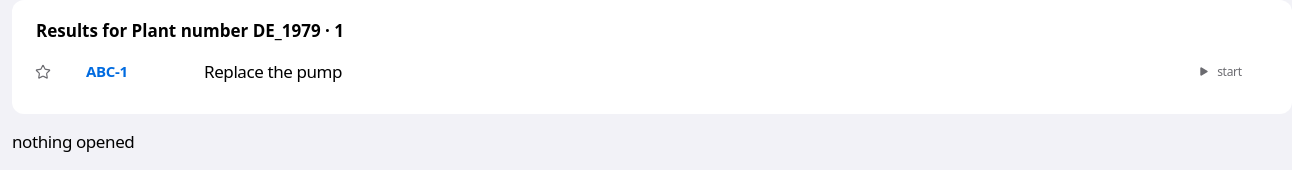
Scenario: the results themselves › open the issue when one is clicked
Click the button "Replace the pump" at (273, 71), box [200,50,962,94]
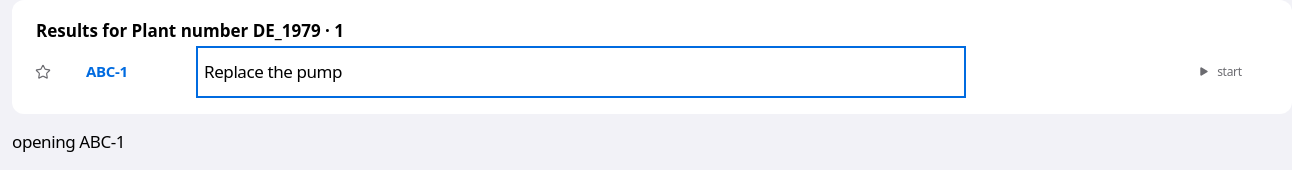
Result: the text "opening ABC-1" is shown at [12,130,125,153]
